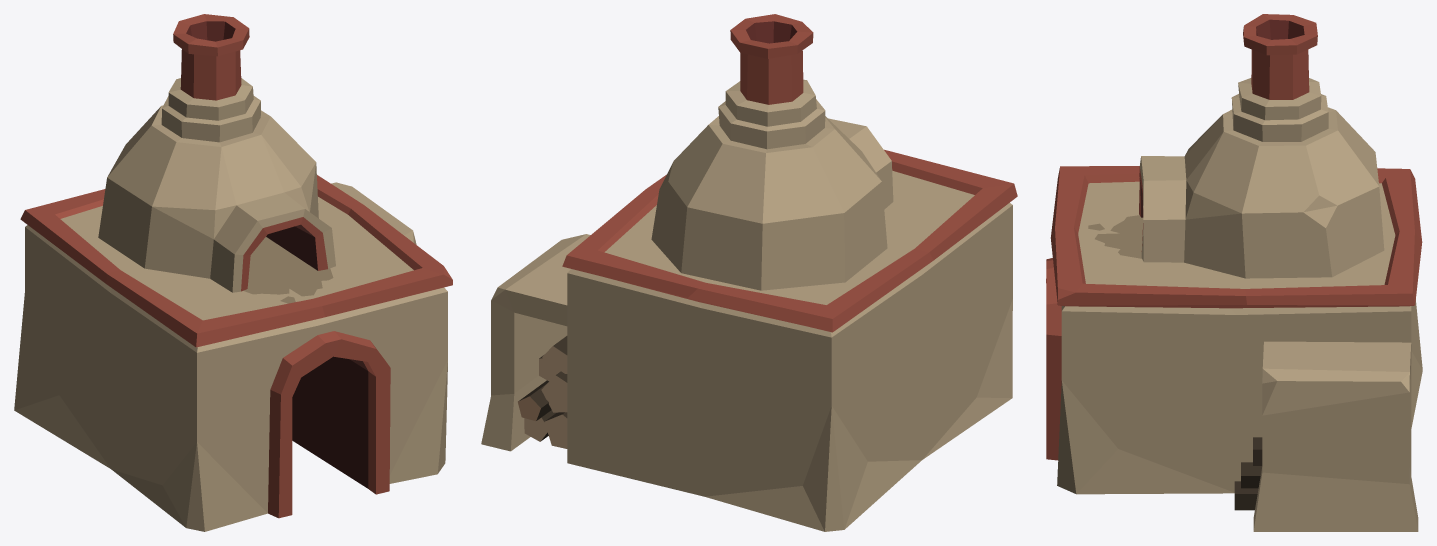
The model's file is SM_Prop_OutdoorOven_01.fbx.
3 views of the same model, side by side, from view 1: azimuth 30°, elevation 25°; view 2: azimuth 150°, elevation 25°; view 3: azimuth 270°, elevation 25° (orthographic). The views are drawn at different scales.
Parts seen in each view (by area): view 1: SM_Prop_OutdoorOven_01; view 2: SM_Prop_OutdoorOven_01; view 3: SM_Prop_OutdoorOven_01.
Part boxes in pixels (<box>): SM_Prop_OutdoorOven_01: <box>14,14,452,531</box>; SM_Prop_OutdoorOven_01: <box>481,14,1017,531</box>; SM_Prop_OutdoorOven_01: <box>1046,14,1422,531</box>.
Size of the model in its own units: 202 by 224 by 191.
